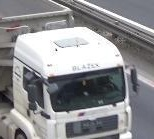truck: (0, 0, 132, 139)
